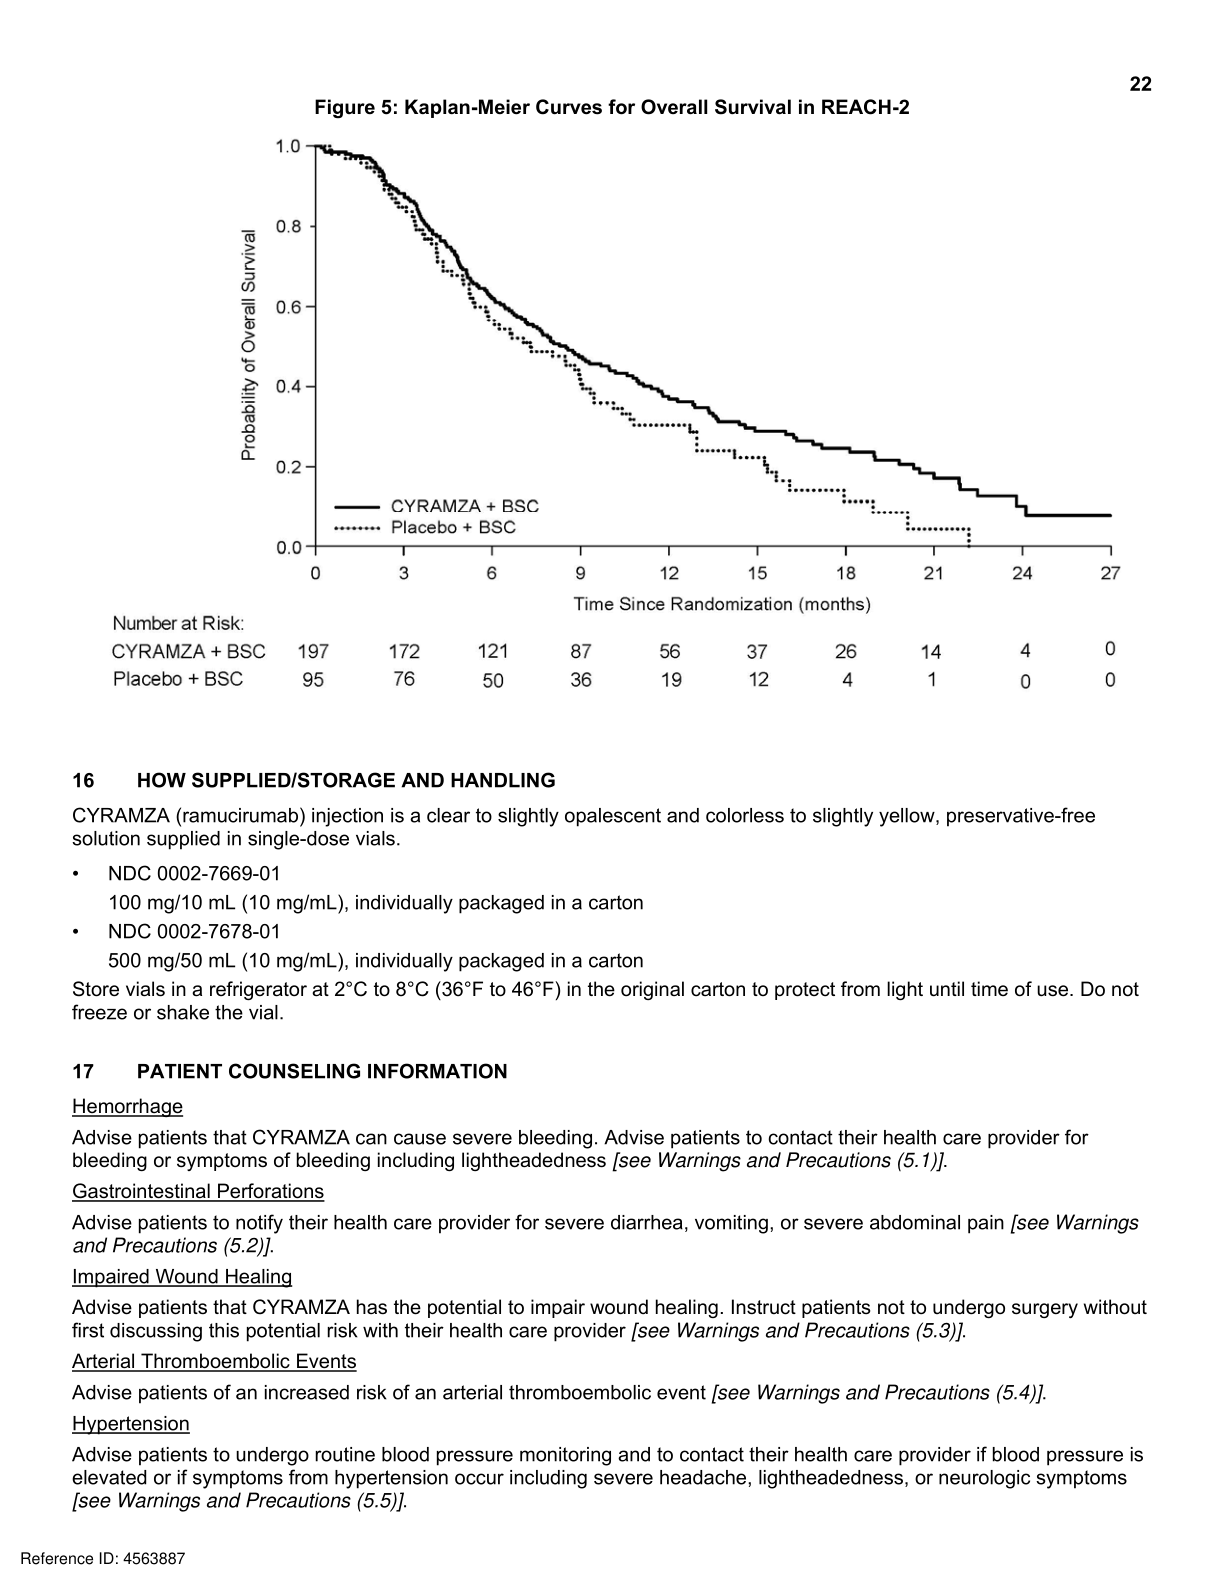nolines: (111, 639, 1121, 688)
